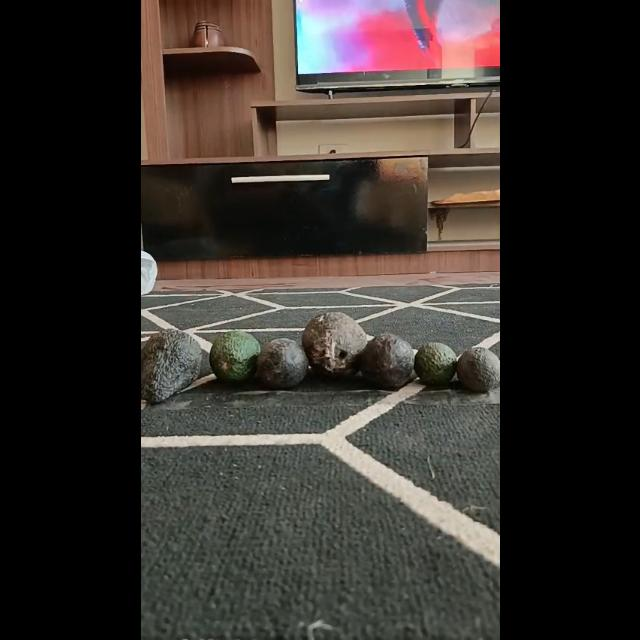Primera: (140, 327, 202, 403), (300, 310, 366, 376)
Segunda: (355, 332, 415, 388), (208, 331, 260, 384), (256, 338, 308, 388)
Tercera: (413, 342, 457, 384), (456, 348, 498, 392)
